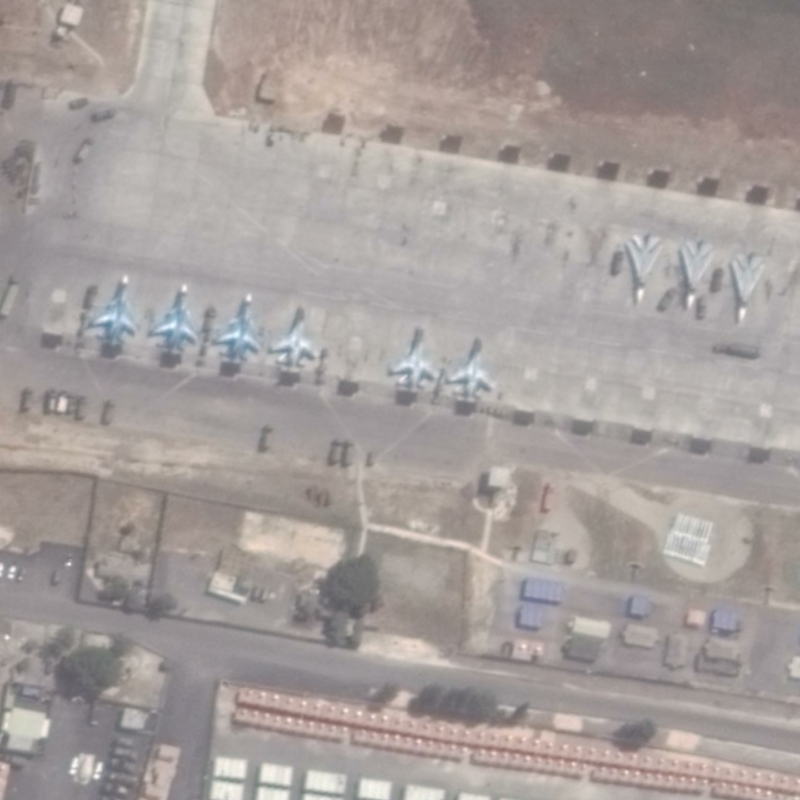A1: (382, 322, 443, 394), (264, 299, 322, 372), (443, 331, 498, 403)
A19: (86, 268, 142, 349), (148, 280, 201, 358), (211, 289, 265, 363)
A20: (621, 227, 665, 310), (677, 237, 718, 316), (728, 247, 767, 326)
